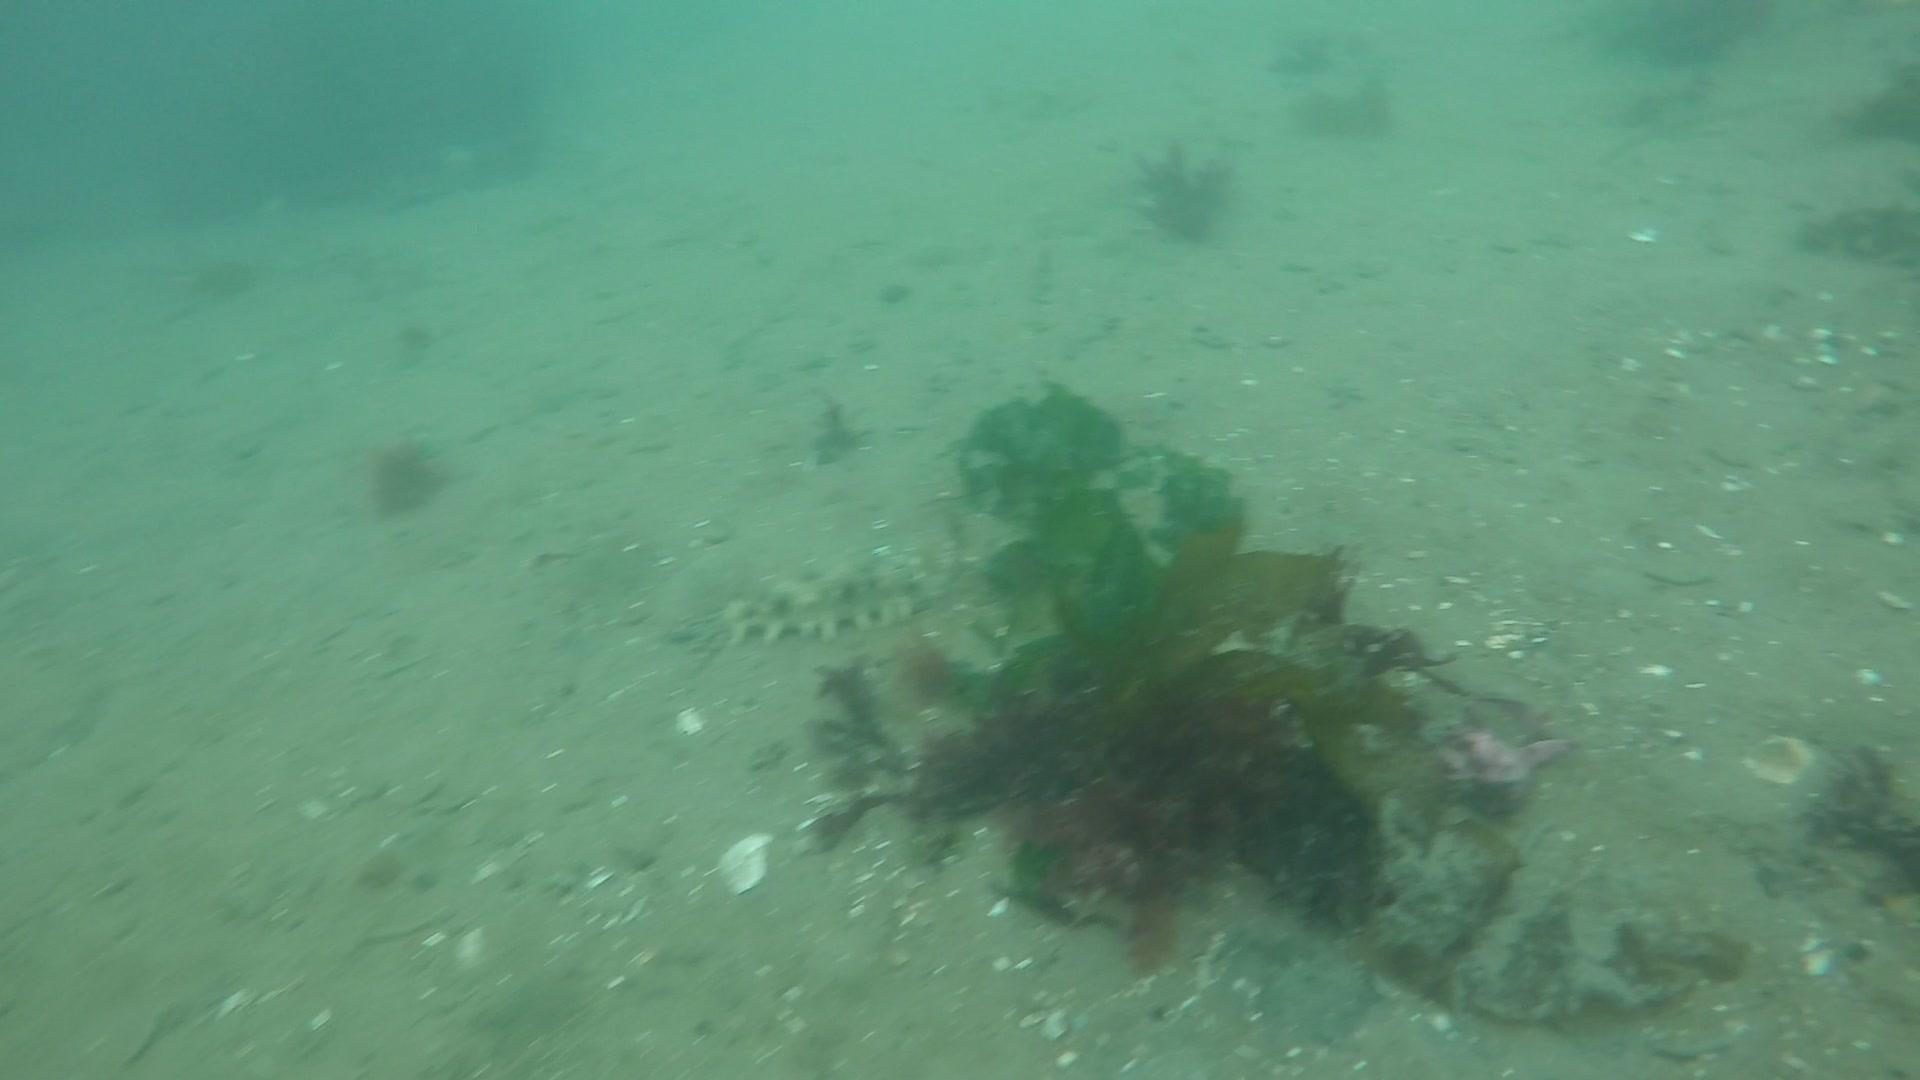holothurian: (716, 560, 931, 647)
